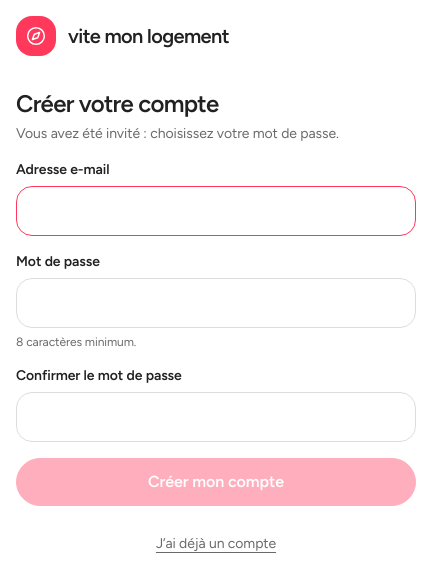
Scenario: AuthGate : inscription par lien d’invitation › « J’ai déjà un compte » bascule vers la connexion
Check: the heading "Créer votre compte" is shown, box [16, 89, 218, 118]
Click the button "J’ai déjà un compte". click: [216, 544]
box: [16, 522, 416, 566]
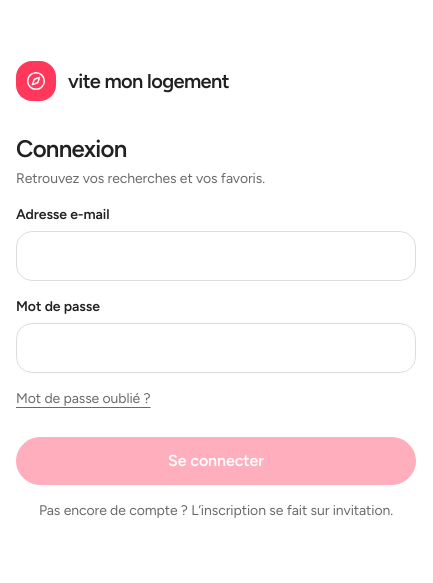
Check: the heading "Connexion" is shown, box [16, 134, 127, 163]
